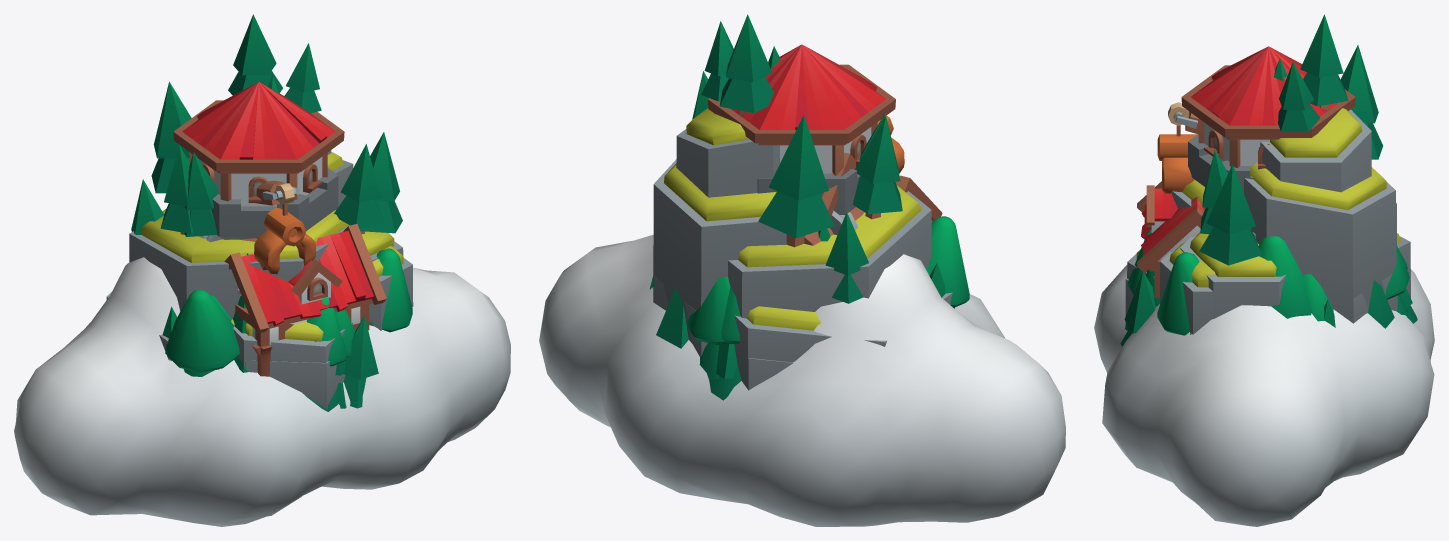
The model's file is village.glb.
The picture shows the model from 3 angles, left to right: view 1: azimuth 30°, elevation 25°; view 2: azimuth 150°, elevation 25°; view 3: azimuth 270°, elevation 25°; orthographic projection. The views are drawn at different scales.
Parts seen in each view (by area): view 1: cloud_big, mountain_A_grass_trees, building_tower_A_top_red, mountain_B_grass_trees, building_watermill_red, trees_B_large, building_tower_A_red, building_lumbermill_top_yellow, trees_A_large, building_lumbermill_top_red, trees_B_medium; view 2: cloud_big, mountain_B_grass_trees, mountain_A_grass_trees, building_tower_A_top_red, trees_B_large, trees_B_medium, trees_A_large, building_tower_A_red, building_tavern_red; view 3: cloud_big, mountain_B_grass_trees, building_tower_A_top_red, mountain_A_grass_trees, building_watermill_red, trees_B_large, trees_B_medium, trees_A_large, building_lumbermill_top_red, building_tower_A_red, building_lumbermill_top_yellow, building_lumbermill_top_blue (+1 smaller).
Part boxes in pixels (bbox=[...]): cloud_big: bbox=[14, 257, 510, 526]; mountain_A_grass_trees: bbox=[129, 75, 413, 366]; building_tower_A_top_red: bbox=[173, 82, 344, 206]; mountain_B_grass_trees: bbox=[106, 14, 403, 410]; building_watermill_red: bbox=[224, 224, 386, 376]; trees_B_large: bbox=[165, 248, 412, 411]; building_tower_A_red: bbox=[211, 168, 338, 239]; building_lumbermill_top_yellow: bbox=[254, 182, 316, 274]; trees_A_large: bbox=[162, 306, 378, 408]; building_lumbermill_top_red: bbox=[254, 184, 304, 266]; trees_B_medium: bbox=[180, 295, 355, 357]; cloud_big: bbox=[539, 234, 1065, 526]; mountain_B_grass_trees: bbox=[653, 14, 954, 389]; mountain_A_grass_trees: bbox=[654, 46, 931, 390]; building_tower_A_top_red: bbox=[707, 44, 895, 175]; trees_B_large: bbox=[709, 216, 969, 400]; trees_B_medium: bbox=[687, 266, 929, 380]; trees_A_large: bbox=[649, 263, 945, 379]; building_tower_A_red: bbox=[757, 169, 860, 214]; building_tavern_red: bbox=[804, 207, 864, 245]; cloud_big: bbox=[1094, 265, 1434, 526]; mountain_B_grass_trees: bbox=[1125, 14, 1410, 324]; building_tower_A_top_red: bbox=[1181, 46, 1355, 169]; mountain_A_grass_trees: bbox=[1127, 45, 1410, 334]; building_watermill_red: bbox=[1137, 181, 1204, 297]; trees_B_large: bbox=[1125, 229, 1417, 335]; trees_B_medium: bbox=[1146, 236, 1409, 318]; trees_A_large: bbox=[1120, 272, 1412, 346]; building_lumbermill_top_red: bbox=[1159, 107, 1198, 193]; building_tower_A_red: bbox=[1188, 134, 1253, 193]; building_lumbermill_top_yellow: bbox=[1157, 102, 1198, 193]; building_lumbermill_top_blue: bbox=[1160, 106, 1195, 191].
Size of the model in its own units: 3.61 by 3.41 by 2.24.
Materials: 1 (1 with a texture image).
